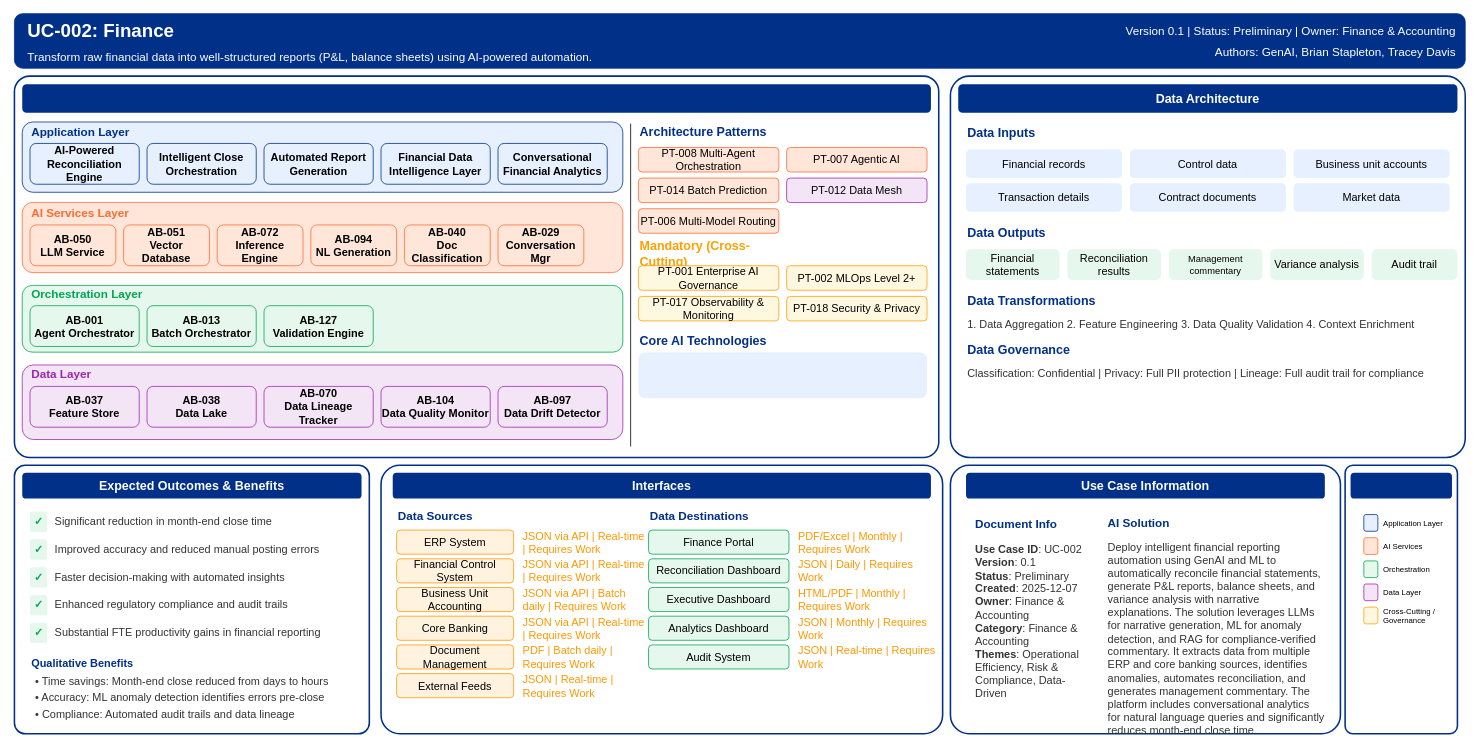
The diagram is 1480 pixels wide and 750 high, and some of its shapes have lost their labels. The centre of each missing label's shape, as x and y in pixels:
GPT-4/Claude | XGBoost/LightGBM | Autoencoders | NLP/NER | Time-Series: point 782,375
Legend: point 1401,485
Solution: point 476,98
